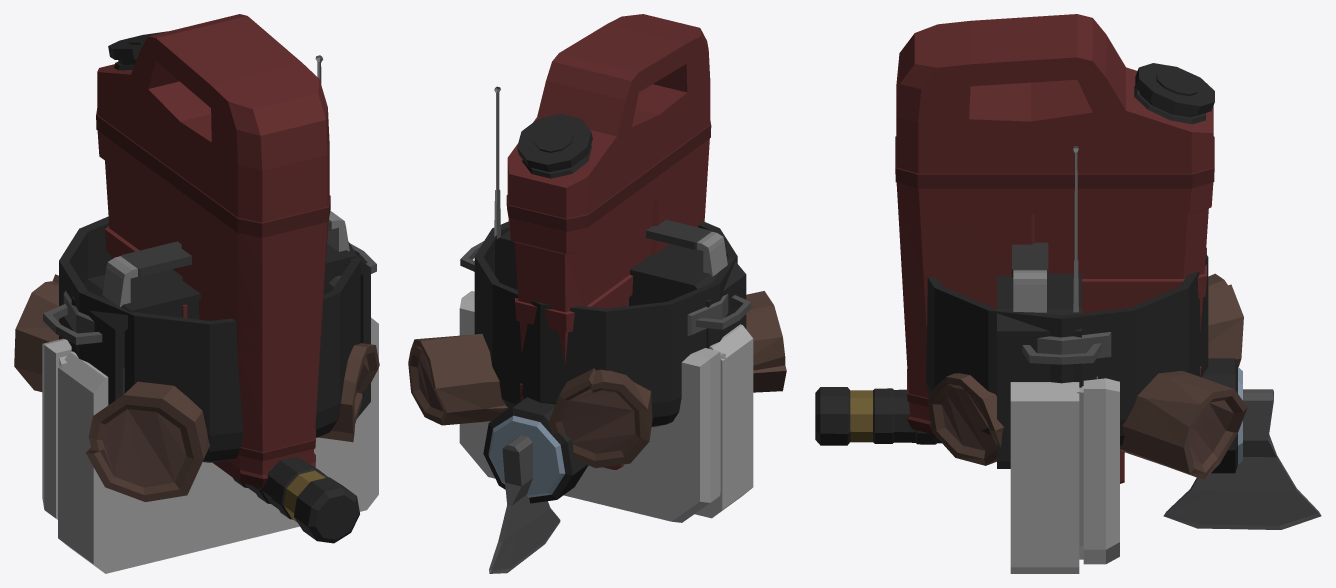
The model's file is items.glb.
3 renders of one model, left to right at view 1: azimuth 30°, elevation 25°; view 2: azimuth 150°, elevation 25°; view 3: azimuth 270°, elevation 25°, orthographic. The views are drawn at different scales.
Visible parts, largest first — view 1: FUEL CAN, MEDKIT, POT, BONFIRE, RADIO, TORCH; view 2: FUEL CAN, POT, MEDKIT, BONFIRE, RADIO, TORCH, HATCHET; view 3: FUEL CAN, MEDKIT, POT, BONFIRE, HATCHET, RADIO, TORCH.
Boxes of the visible parts, x1,y1,x2,y2 form: FUEL CAN: (96, 14, 330, 487); MEDKIT: (42, 317, 378, 573); POT: (43, 216, 376, 462); BONFIRE: (14, 274, 379, 501); RADIO: (71, 55, 370, 418); TORCH: (233, 456, 359, 543); FUEL CAN: (506, 14, 711, 400); POT: (460, 221, 751, 426); MEDKIT: (459, 291, 753, 522); BONFIRE: (408, 291, 786, 468); RADIO: (494, 86, 746, 348); TORCH: (483, 397, 588, 503); HATCHET: (489, 435, 560, 573); FUEL CAN: (895, 14, 1214, 434); MEDKIT: (1010, 376, 1124, 573); POT: (926, 254, 1208, 445); BONFIRE: (927, 273, 1247, 479); HATCHET: (1163, 389, 1321, 529); RADIO: (997, 146, 1081, 468); TORCH: (815, 358, 1242, 473).
Size of the model in its own units: 2.18 by 3.2 by 2.98.
